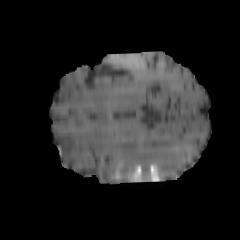glioma: (68, 131, 184, 186)
